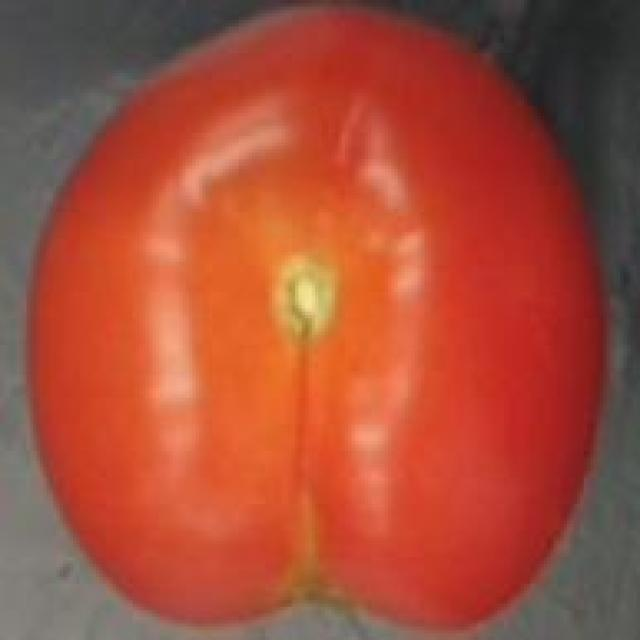overripe tomato: (27, 0, 610, 640)
